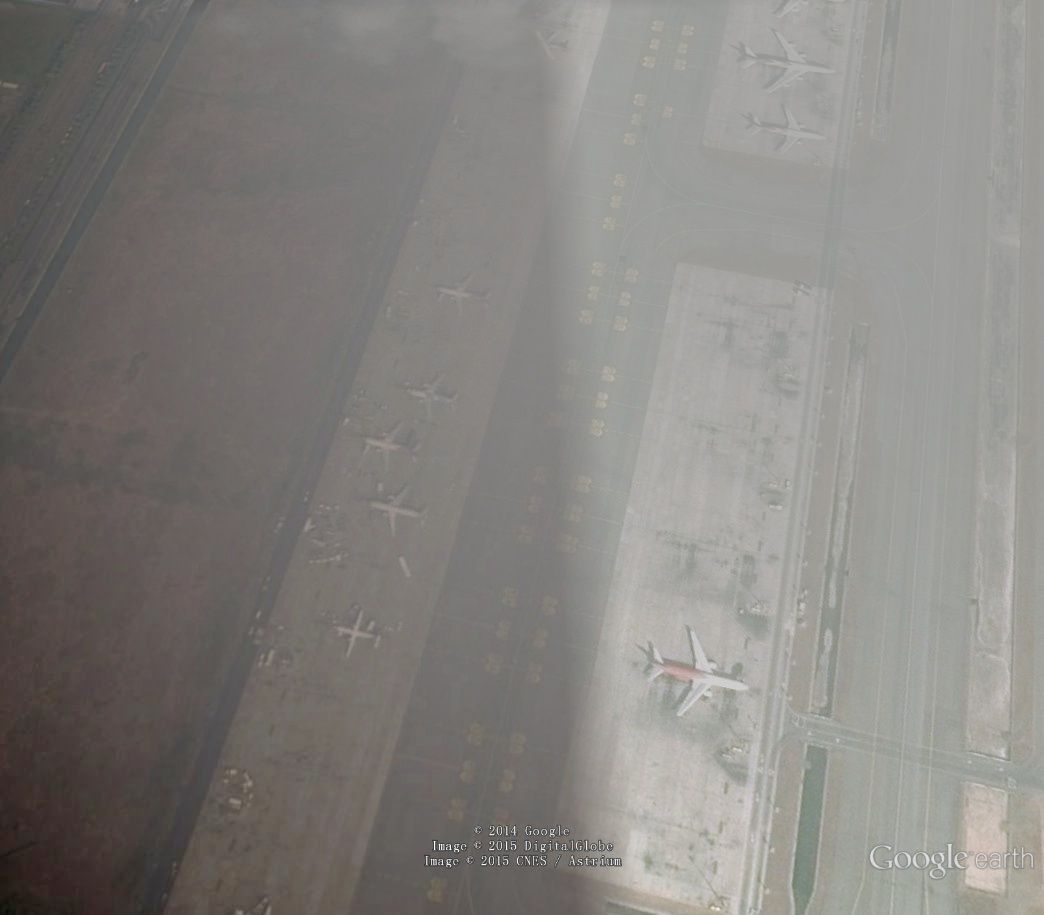aircraft: (633, 627, 753, 724), (736, 25, 843, 99), (744, 102, 832, 160), (361, 478, 435, 540), (400, 369, 465, 424), (433, 268, 498, 321), (357, 418, 415, 477), (331, 604, 388, 663)
